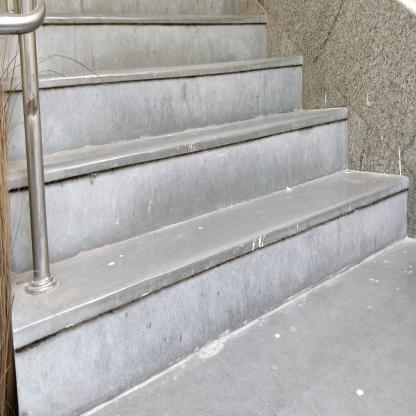stairs: (57, 9, 265, 398)
